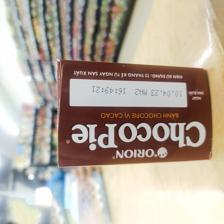Chocopie_cacao: (53, 58, 217, 170)
